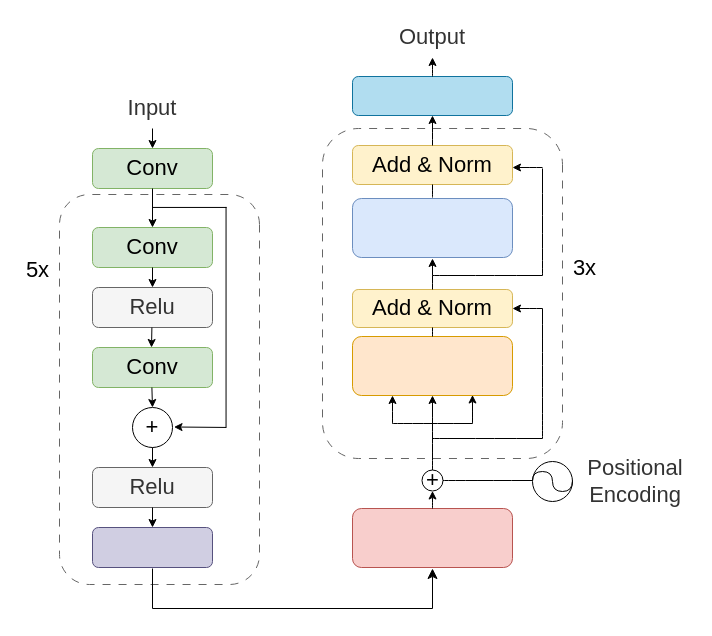
The diagram is 712 pixels wide and 636 high, and some of its shapes have lost their labels. The shapes that lost their labels are listed below. From the top down, each one's box as (x1, y1, x2, y2) in pixels, then its label:
(352, 76, 512, 116): Linear
(352, 198, 512, 258): Feed Forward
(352, 336, 512, 396): Multi-Head Attention
(92, 526, 212, 568): Pool
(352, 508, 512, 568): Input Embedding
